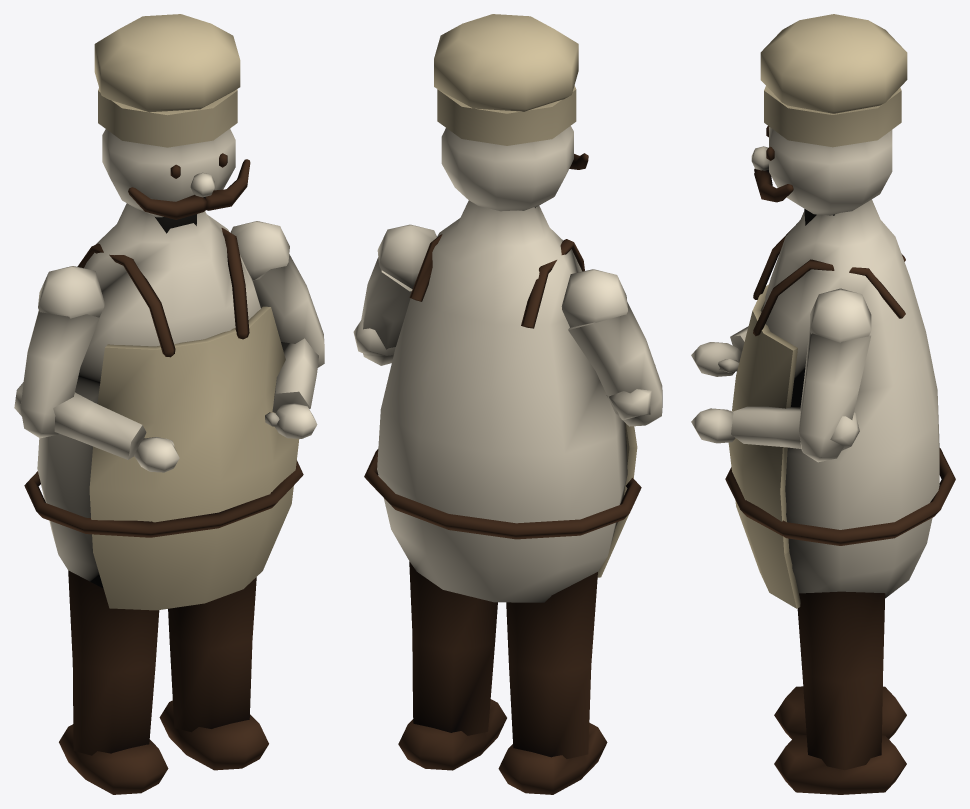
Rendered from figure_otto.glb.
3 renders of one model, left to right at view 1: azimuth 30°, elevation 25°; view 2: azimuth 150°, elevation 25°; view 3: azimuth 270°, elevation 25°, orthographic.
Visible parts, largest first — view 1: Otto_Body, Otto_Forearms; view 2: Otto_Body, Otto_Forearms; view 3: Otto_Body, Otto_Forearms.
Boxes of the visible parts, x1,y1,x2,y2 form: Otto_Body: [20, 14, 324, 794]; Otto_Forearms: [14, 338, 318, 472]; Otto_Body: [361, 14, 662, 794]; Otto_Forearms: [353, 318, 655, 419]; Otto_Body: [725, 14, 955, 794]; Otto_Forearms: [691, 326, 859, 450].
Bounding box in the file's own units: 0.0155 × 0.036 × 0.0118.
